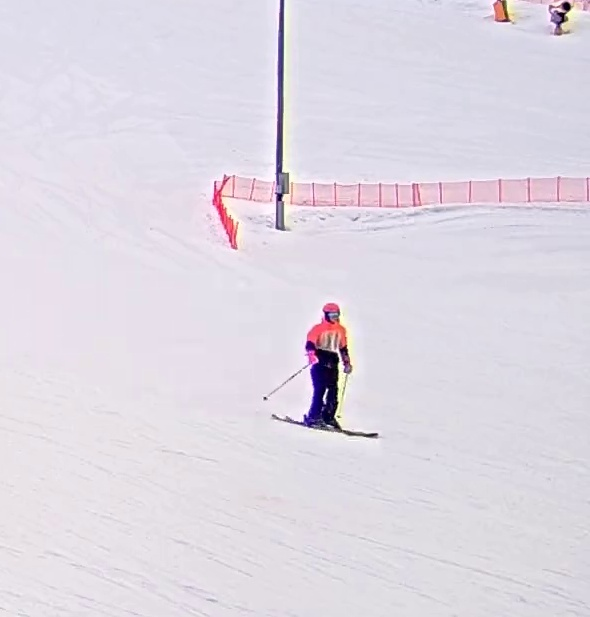skier: (259, 295, 381, 441)
